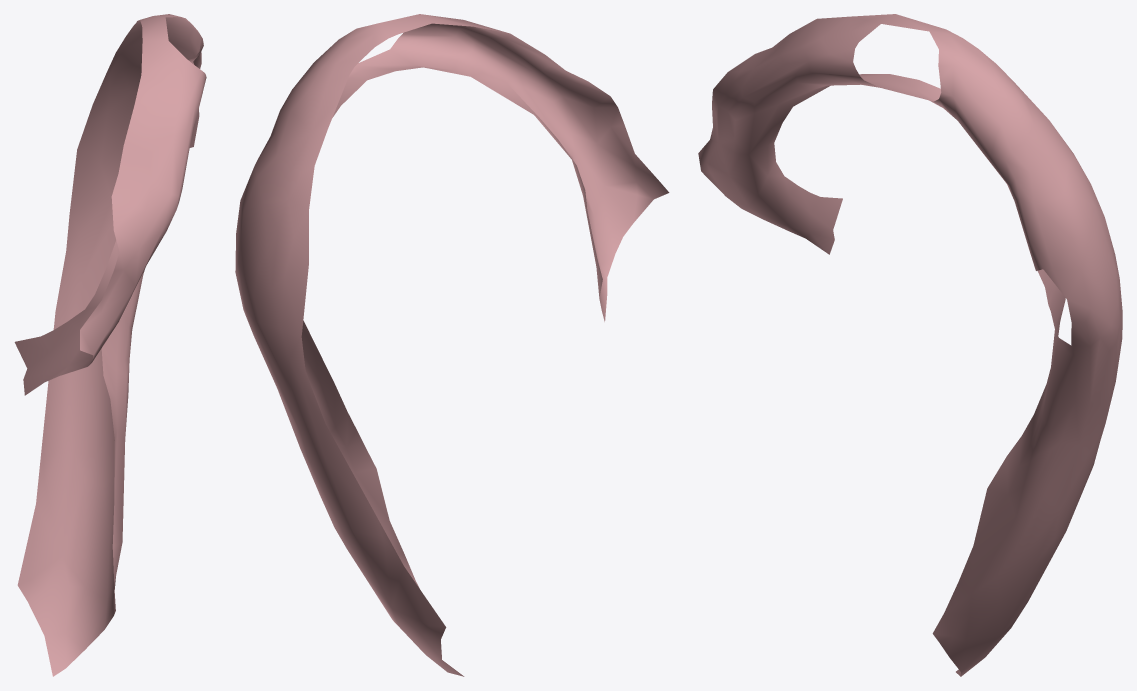
3 renders of one model, left to right at view 1: azimuth 30°, elevation 25°; view 2: azimuth 150°, elevation 25°; view 3: azimuth 270°, elevation 25°, orthographic. The views are drawn at different scales.
Visible parts, largest first — view 1: ZA_415aaea507524af9; view 2: ZA_415aaea507524af9; view 3: ZA_415aaea507524af9.
Part boxes in pixels (box(x1,y1,x2,y2)): ZA_415aaea507524af9: box(14, 14, 206, 676); ZA_415aaea507524af9: box(235, 14, 669, 676); ZA_415aaea507524af9: box(698, 14, 1122, 676).
Size of the model in its own units: 0.0217 by 0.0483 by 0.0268.
